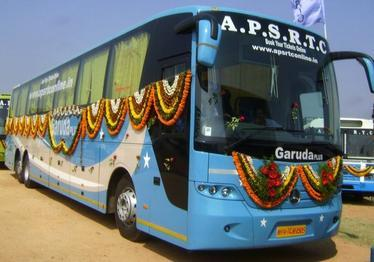Bus: (4, 6, 374, 252)
